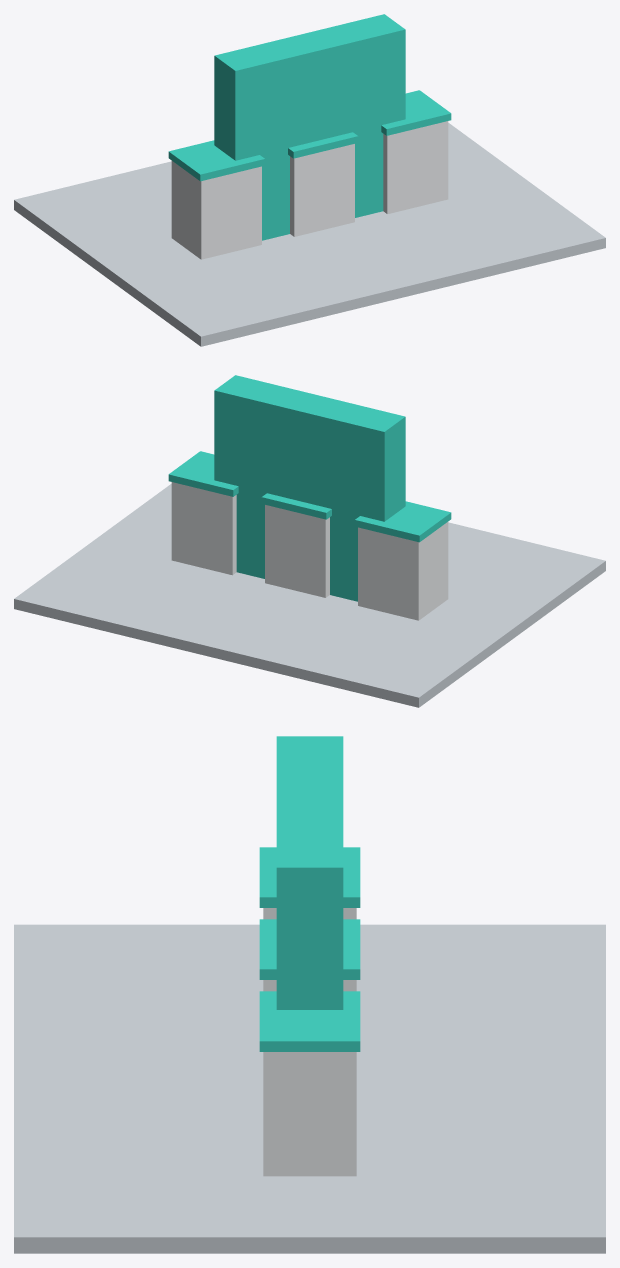
3 views of the same model, one above another, from view 1: azimuth 30°, elevation 25°; view 2: azimuth 150°, elevation 25°; view 3: azimuth 270°, elevation 25° (orthographic). The views are drawn at different scales.
Visible parts, largest first — view 1: Exhibition Booth Concept; view 2: Exhibition Booth Concept; view 3: Exhibition Booth Concept.
Boxes of the visible parts, left/top/right/bottom form: Exhibition Booth Concept: left=14, top=14, right=605, bottom=346; Exhibition Booth Concept: left=14, top=375, right=605, bottom=707; Exhibition Booth Concept: left=14, top=736, right=605, bottom=1253.
Bounding box in the file's own units: 5 × 2.2 × 4.
